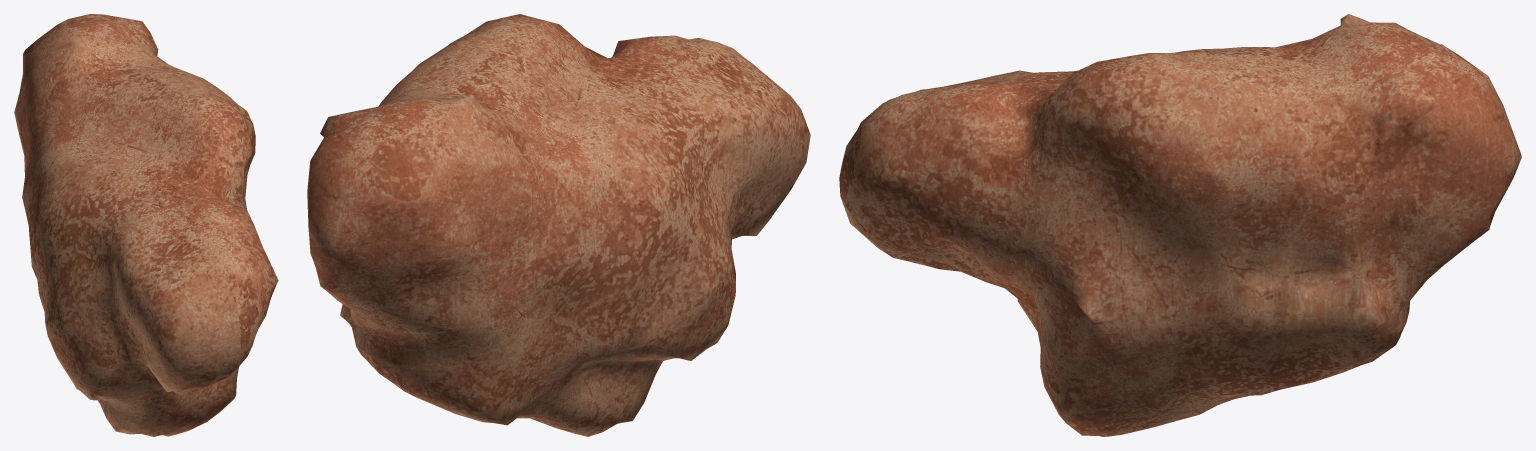
File: desert_rock_base.glb
3 renders of one model, left to right at view 1: azimuth 30°, elevation 25°; view 2: azimuth 150°, elevation 25°; view 3: azimuth 270°, elevation 25°, orthographic. The views are drawn at different scales.
Parts seen in each view (by area): view 1: rock_low; view 2: rock_low; view 3: rock_low.
Part boxes in pixels (x1,y1,x2,y2): rock_low: (14, 14, 278, 436); rock_low: (307, 14, 810, 436); rock_low: (839, 14, 1521, 436).
Size of the model in its own units: 0.9838 by 1.36 by 2.
Materials: 1 (1 with a texture image).
